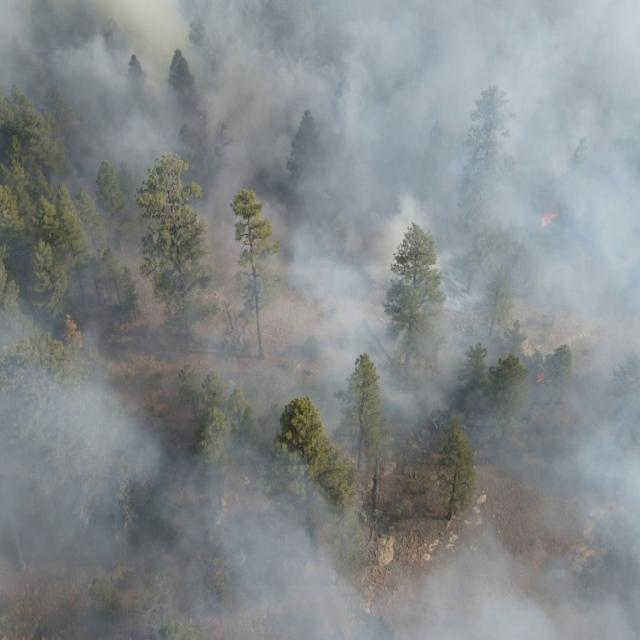fire: (541, 210, 559, 226), (534, 370, 547, 389)
smoke: (0, 0, 640, 640)
